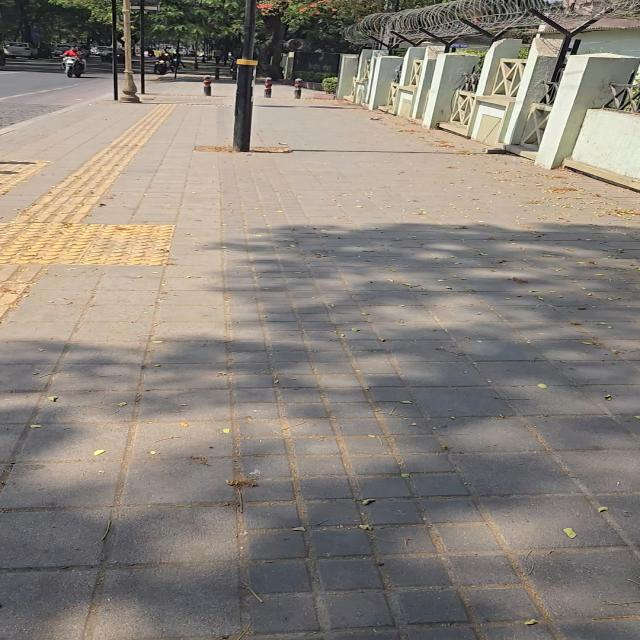obstacle: (256, 0, 391, 73), (258, 0, 389, 65), (258, 0, 340, 65), (146, 0, 243, 47), (0, 0, 104, 43), (149, 0, 243, 43), (233, 0, 257, 151), (120, 0, 139, 102), (51, 0, 110, 24), (264, 15, 287, 69), (111, 0, 118, 100), (140, 0, 145, 94), (175, 40, 180, 78), (294, 78, 302, 98), (204, 75, 211, 96), (264, 78, 271, 97), (215, 67, 219, 80)
person: (63, 46, 85, 68), (154, 51, 170, 73), (174, 49, 185, 67), (63, 46, 81, 57), (213, 49, 221, 64), (146, 47, 155, 58)
vehical: (62, 56, 85, 77)
